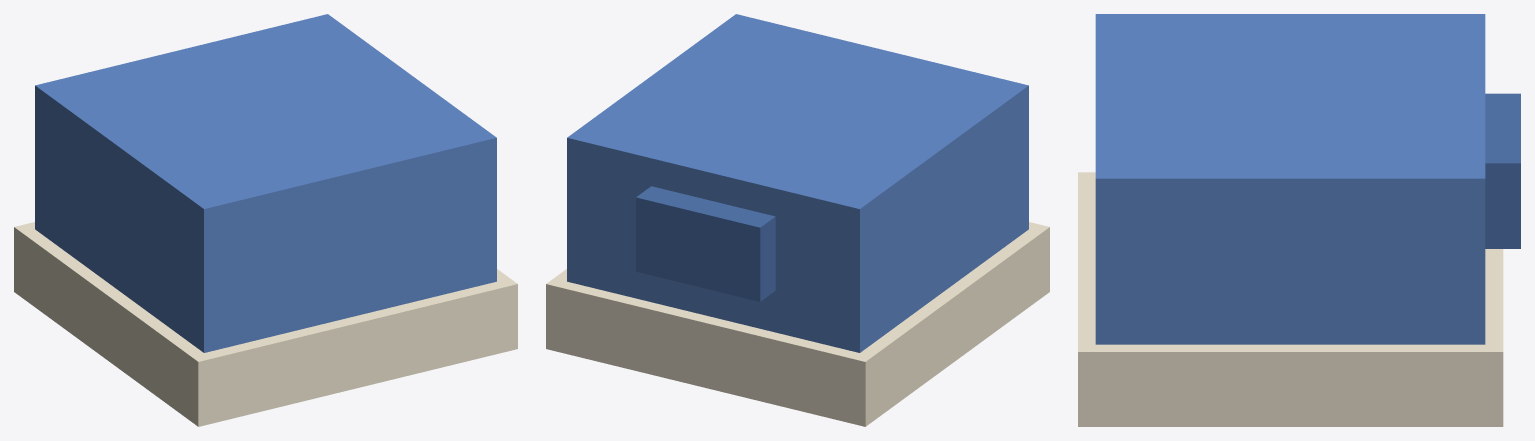
The model's file is polar_manga_inf.glb.
3 views of the same model, side by side, from view 1: azimuth 30°, elevation 25°; view 2: azimuth 150°, elevation 25°; view 3: azimuth 270°, elevation 25° (orthographic). The views are drawn at different scales.
Visible parts, largest first — view 1: polar_manga_inf; view 2: polar_manga_inf; view 3: polar_manga_inf.
Boxes of the visible parts, left/top/right/bottom form: polar_manga_inf: left=14, top=14, right=517, bottom=426; polar_manga_inf: left=546, top=14, right=1049, bottom=426; polar_manga_inf: left=1078, top=14, right=1520, bottom=426.
Bounding box in the file's own units: 0.36 × 0.225 × 0.375.
